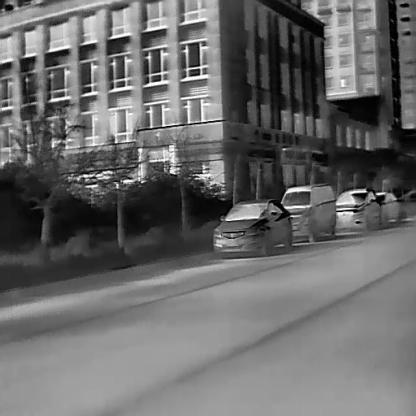car: (211, 198, 292, 256), (280, 181, 336, 242), (335, 185, 379, 235), (374, 192, 398, 228), (398, 188, 415, 224)
